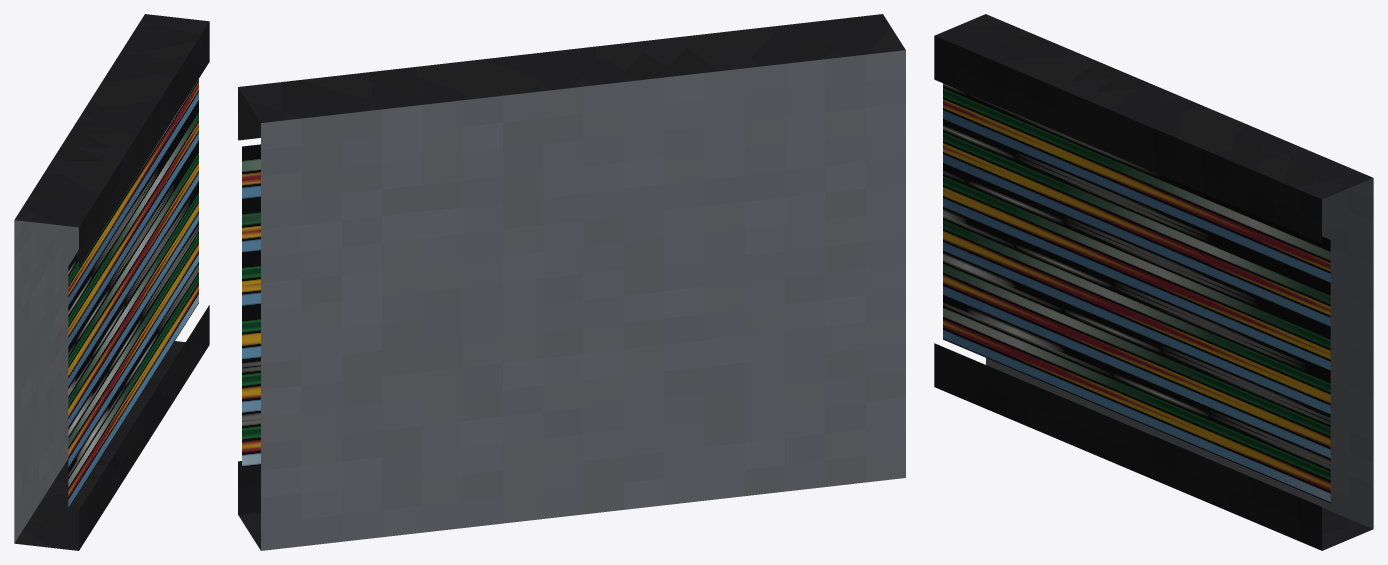
Rendered from ribbon_corner_2.obj.
The picture shows the model from 3 angles, left to right: view 1: azimuth 30°, elevation 25°; view 2: azimuth 150°, elevation 25°; view 3: azimuth 270°, elevation 25°; orthographic projection. The views are drawn at different scales.
Visible parts, largest first — view 1: ribbon_corner_2; view 2: ribbon_corner_2; view 3: ribbon_corner_2.
Part boxes in pixels (x1=…): ribbon_corner_2: x1=14, y1=14, x2=209, y2=550; ribbon_corner_2: x1=238, y1=14, x2=905, y2=550; ribbon_corner_2: x1=934, y1=14, x2=1373, y2=550.
Size of the model in its own units: 1.13 by 1 by 1.13.
